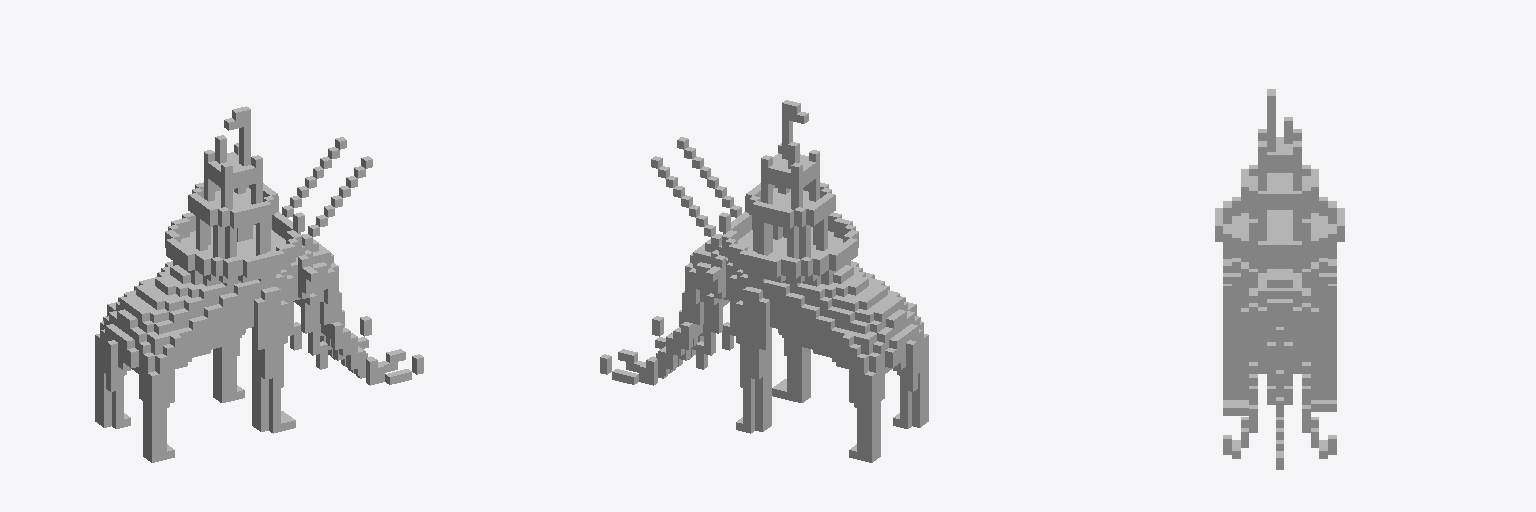
Rendered from elephant.vox.obj.
3 renders of one model, left to right at view 1: azimuth 30°, elevation 25°; view 2: azimuth 150°, elevation 25°; view 3: azimuth 270°, elevation 25°, orthographic.
Parts seen in each view (by area): view 1: object 1; view 2: object 1; view 3: object 1.
Part boxes in pixels (left/top/right/bottom): object 1: left=95, top=106, right=423, bottom=462; object 1: left=600, top=100, right=928, bottom=462; object 1: left=1215, top=89, right=1344, bottom=469.
Size of the model in its own units: 3.9 by 3.9 by 1.5.